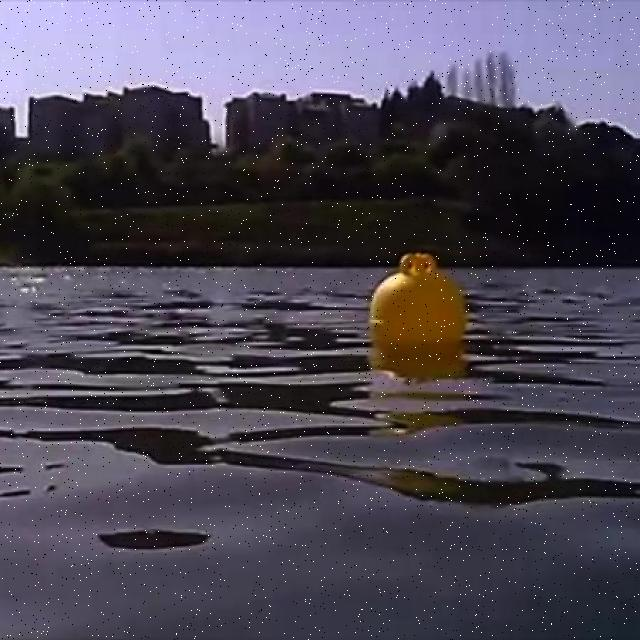buoy: (370, 256, 466, 346)
